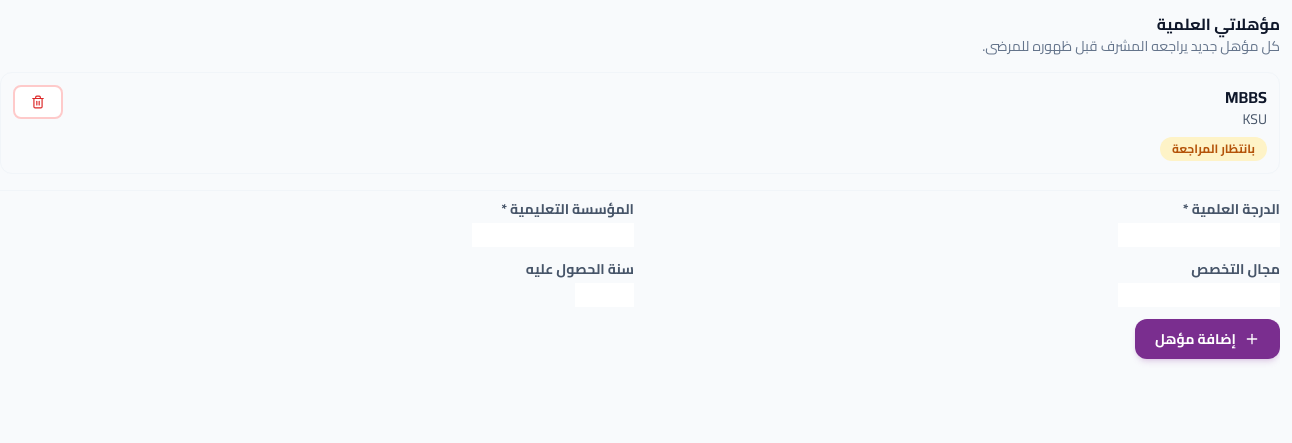
Test case: MyQualifications › deletes after confirmation and shows a server refusal
The width and height of the screenshot is (1292, 443).
Click the button named "حذف MBBS" at (38, 102), box [13, 85, 63, 119]
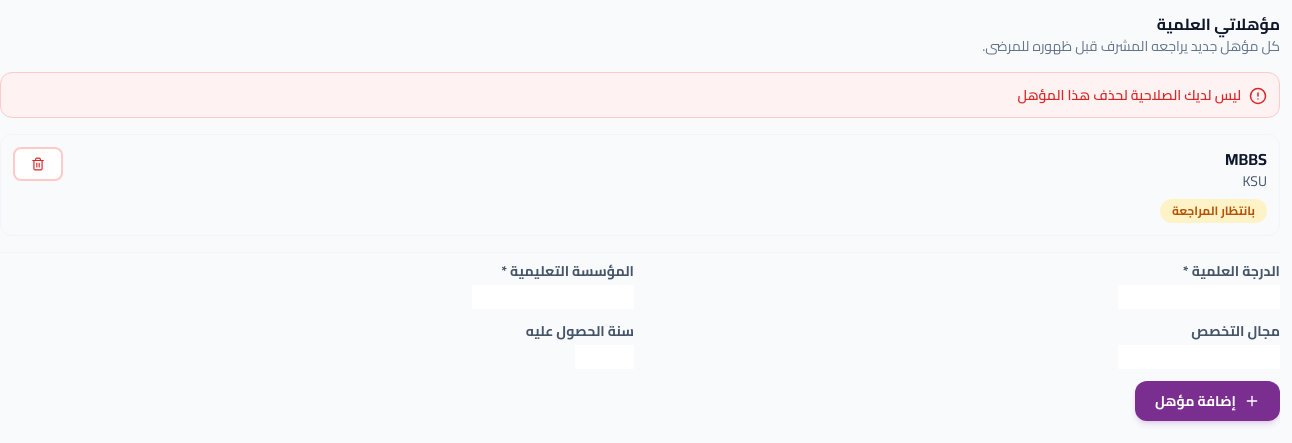
Now the text "ليس لديك الصلاحية لحذف هذا المؤهل" is shown, box [1018, 85, 1241, 105]
